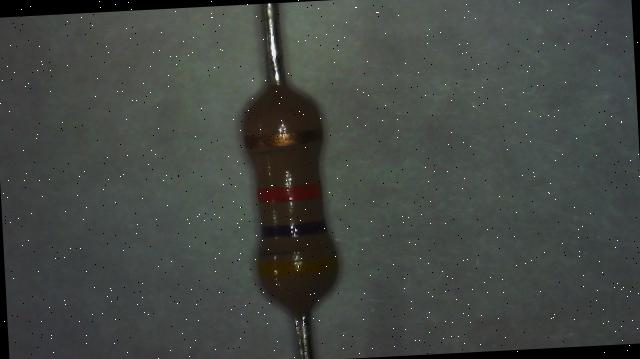gold: (244, 130, 323, 148)
orange: (257, 182, 321, 202)
resistor: (234, 59, 356, 328)
violet: (262, 220, 326, 239)
yellow: (258, 254, 338, 276)
